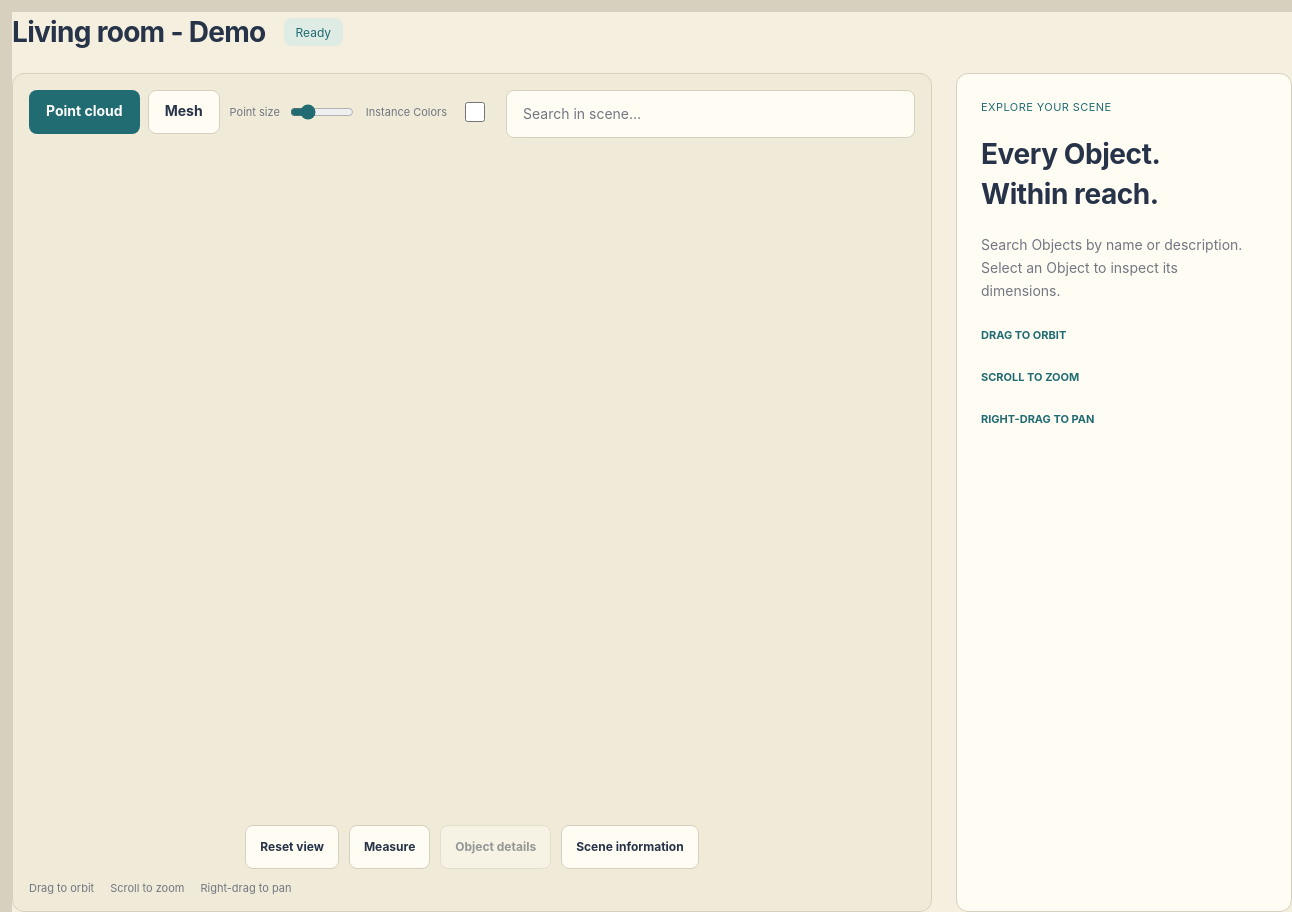
Test: one Points/Mesh switch changes the geometry, with point size only for points
Expected: the number of radio buttons labelled "Point cloud" is 1, [29,90,140,134]
Expected: the slider labelled "Point size" is shown, [290,104,354,120]
Click the radio button labelled "Mesh" at (184, 112), box [148,90,220,134]
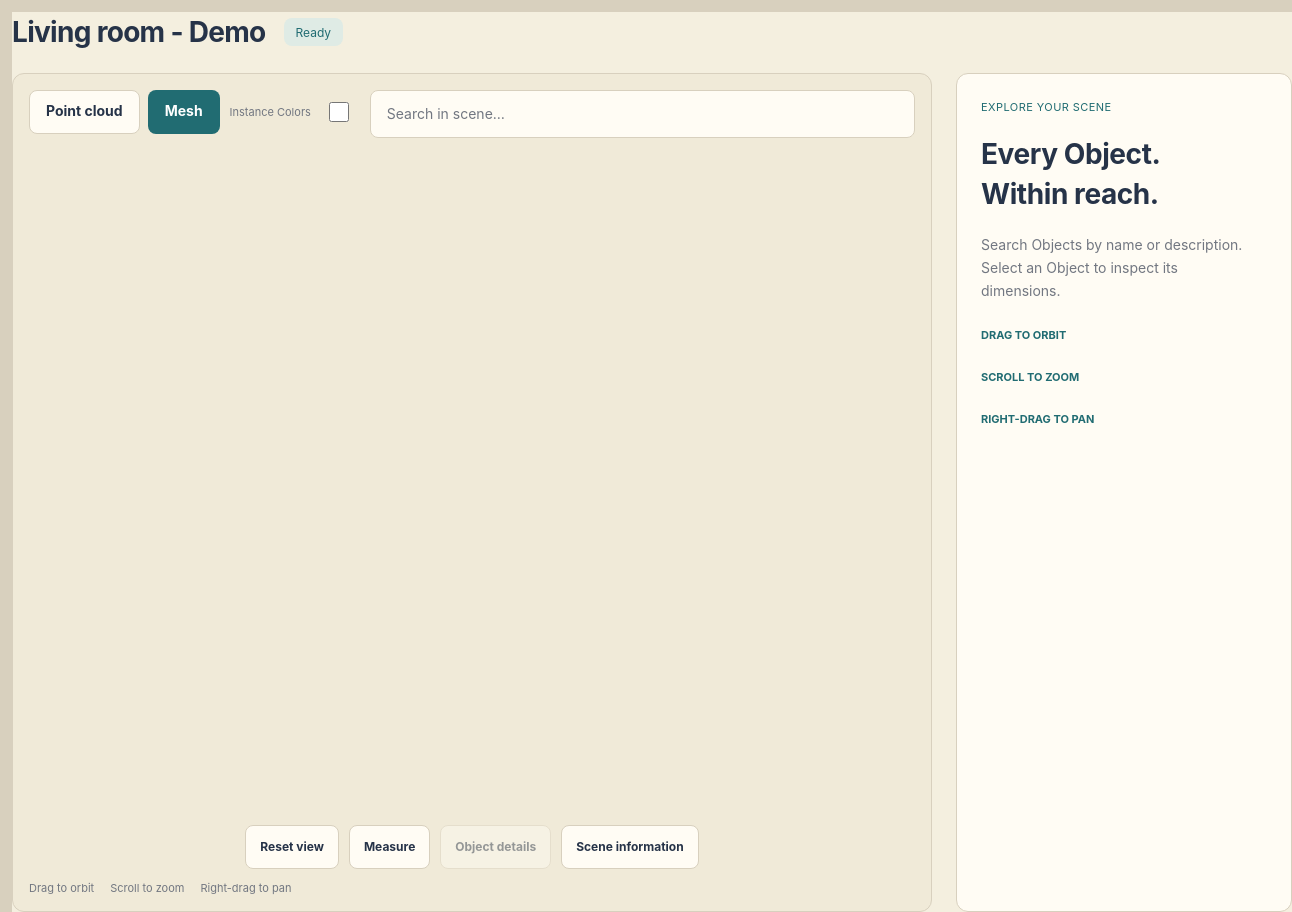
Result: the text "Point size" is gone
